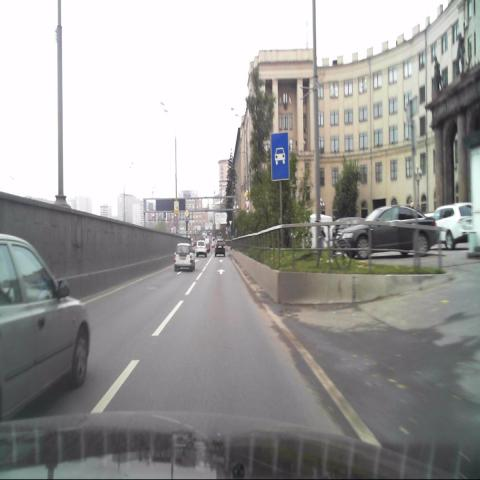5_3: (270, 133, 290, 179)
